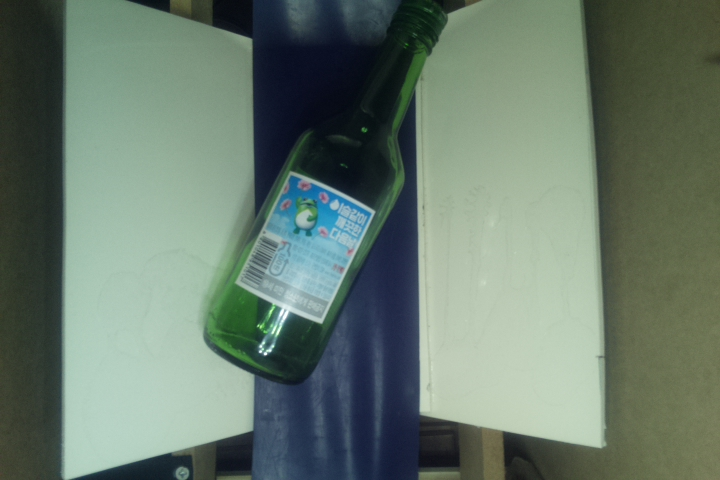soju: (203, 1, 449, 383)
